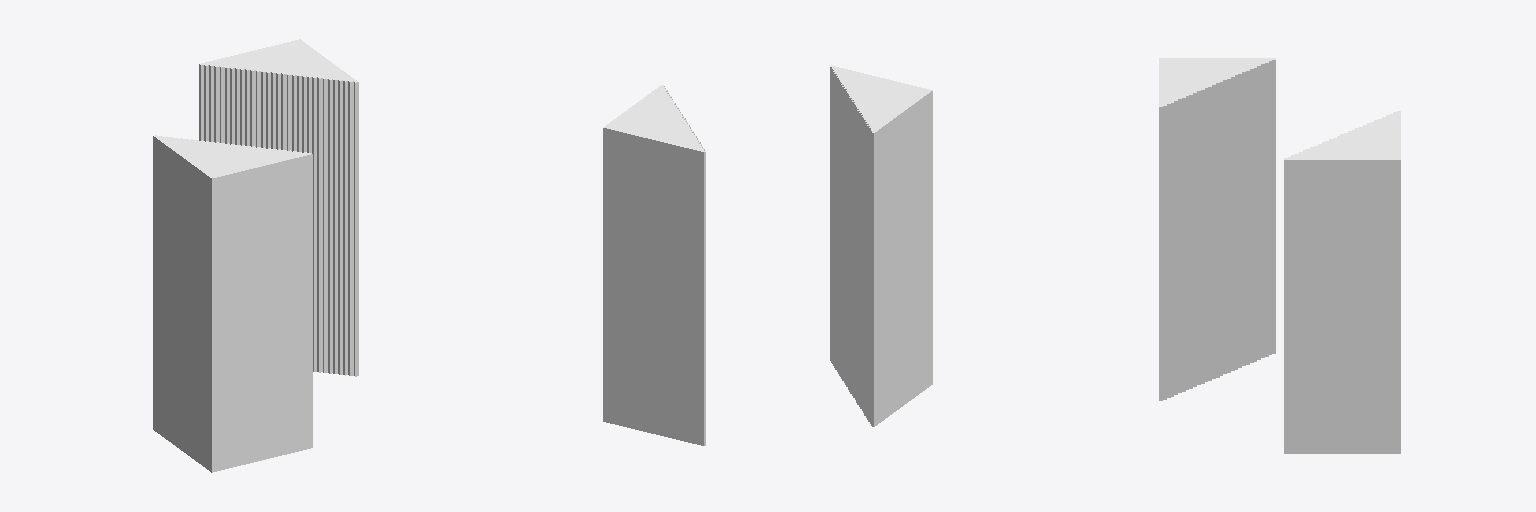
Rendered from building_11.obj.
The picture shows the model from 3 angles: view 1: azimuth 30°, elevation 25°; view 2: azimuth 150°, elevation 25°; view 3: azimuth 270°, elevation 25°; orthographic projection.
Visible parts, largest first — view 1: object 1; view 2: object 1; view 3: object 1.
Boxes of the visible parts, x1,y1,x2,y2 form: object 1: [153, 39, 358, 472]; object 1: [603, 66, 932, 445]; object 1: [1159, 58, 1400, 453].
Bounding box in the file's own units: 6.4 × 8.6 × 6.4.